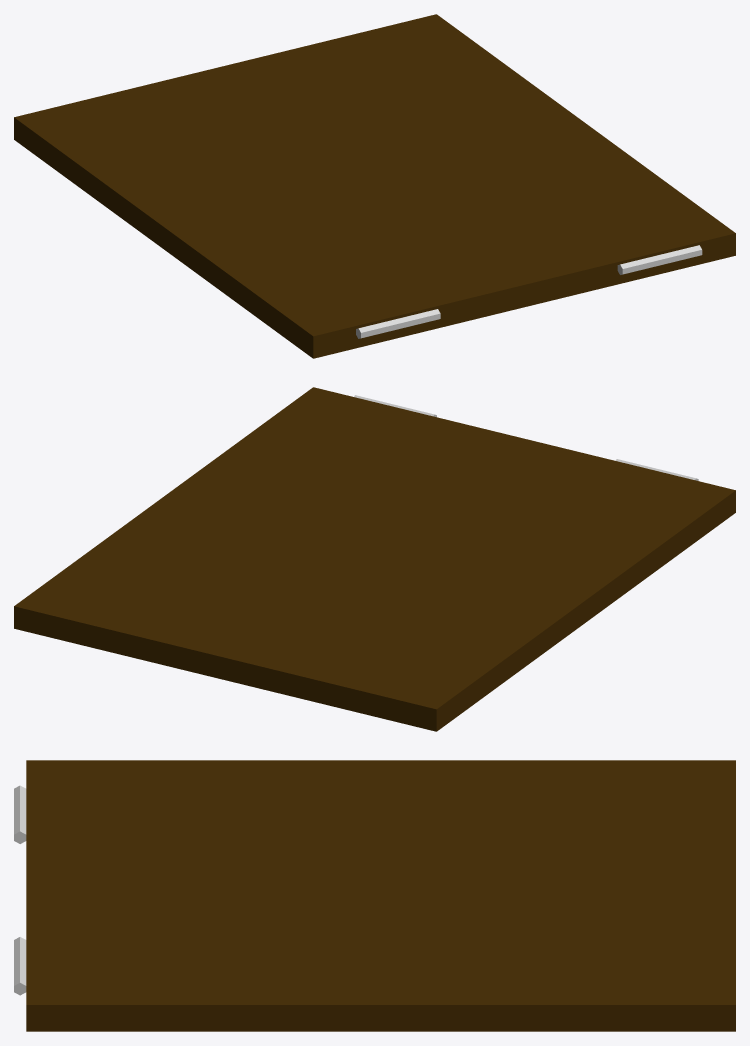
Rendered from R_Reception_Door.fbx.
The picture shows the model from 3 angles, top to bottom: view 1: azimuth 30°, elevation 25°; view 2: azimuth 150°, elevation 25°; view 3: azimuth 270°, elevation 25°; orthographic projection. The views are drawn at different scales.
Parts seen in each view (by area): view 1: R_Reception_Door; view 2: R_Reception_Door; view 3: R_Reception_Door.
Boxes of the visible parts, left/top/right/bottom form: R_Reception_Door: left=14, top=14, right=735, bottom=358; R_Reception_Door: left=14, top=387, right=735, bottom=731; R_Reception_Door: left=14, top=760, right=735, bottom=1031.
Bounding box in the file's own units: 485 × 24.61 × 606.
